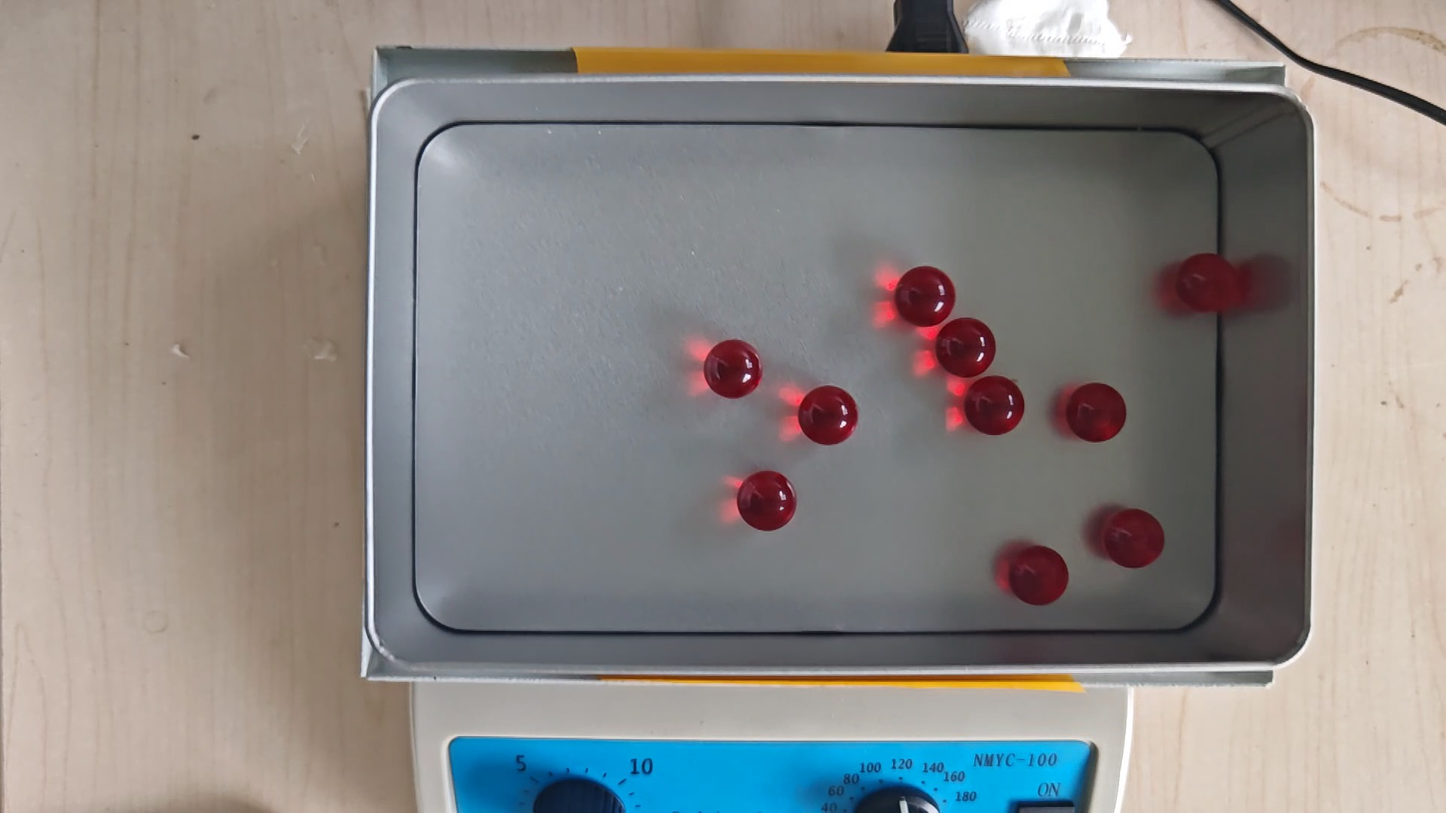ball: (1104, 507, 1165, 569), (895, 265, 955, 327), (737, 470, 797, 532), (799, 385, 859, 446), (965, 376, 1025, 436), (936, 317, 995, 378), (1067, 382, 1126, 442), (1175, 253, 1235, 312), (1009, 546, 1068, 606), (704, 339, 762, 399)
container: (406, 127, 1224, 630)
